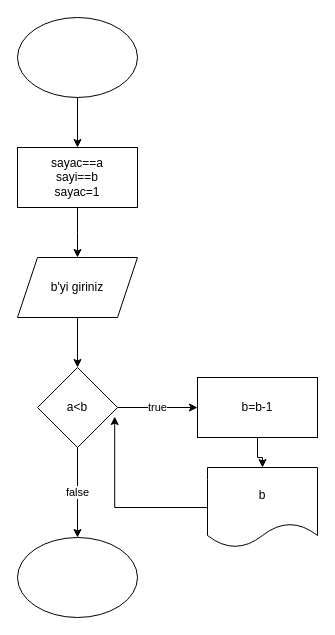
Some shapes in this 335 by 635 pixel diagram are drawn without their labels. Here are the shapes that lost their labels. From the top down, the box of each, then its label:
(16, 16, 138, 98): start
(16, 536, 138, 618): finish
